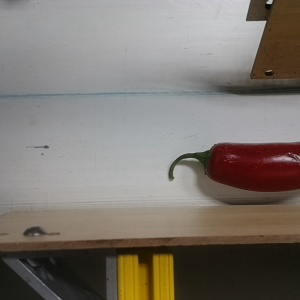Cut Point: (194, 141, 230, 183)
